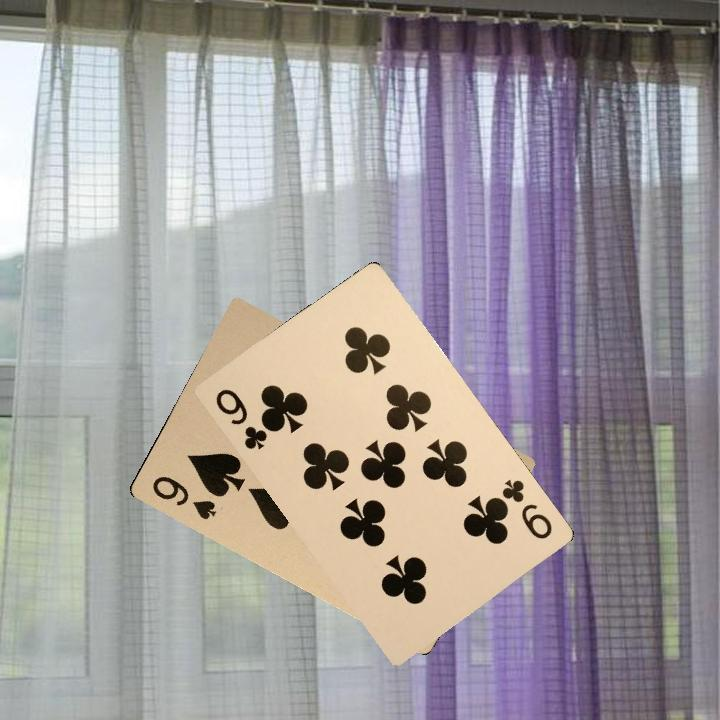9c: (211, 384, 270, 453), (496, 475, 555, 542)
9s: (147, 471, 220, 523)
